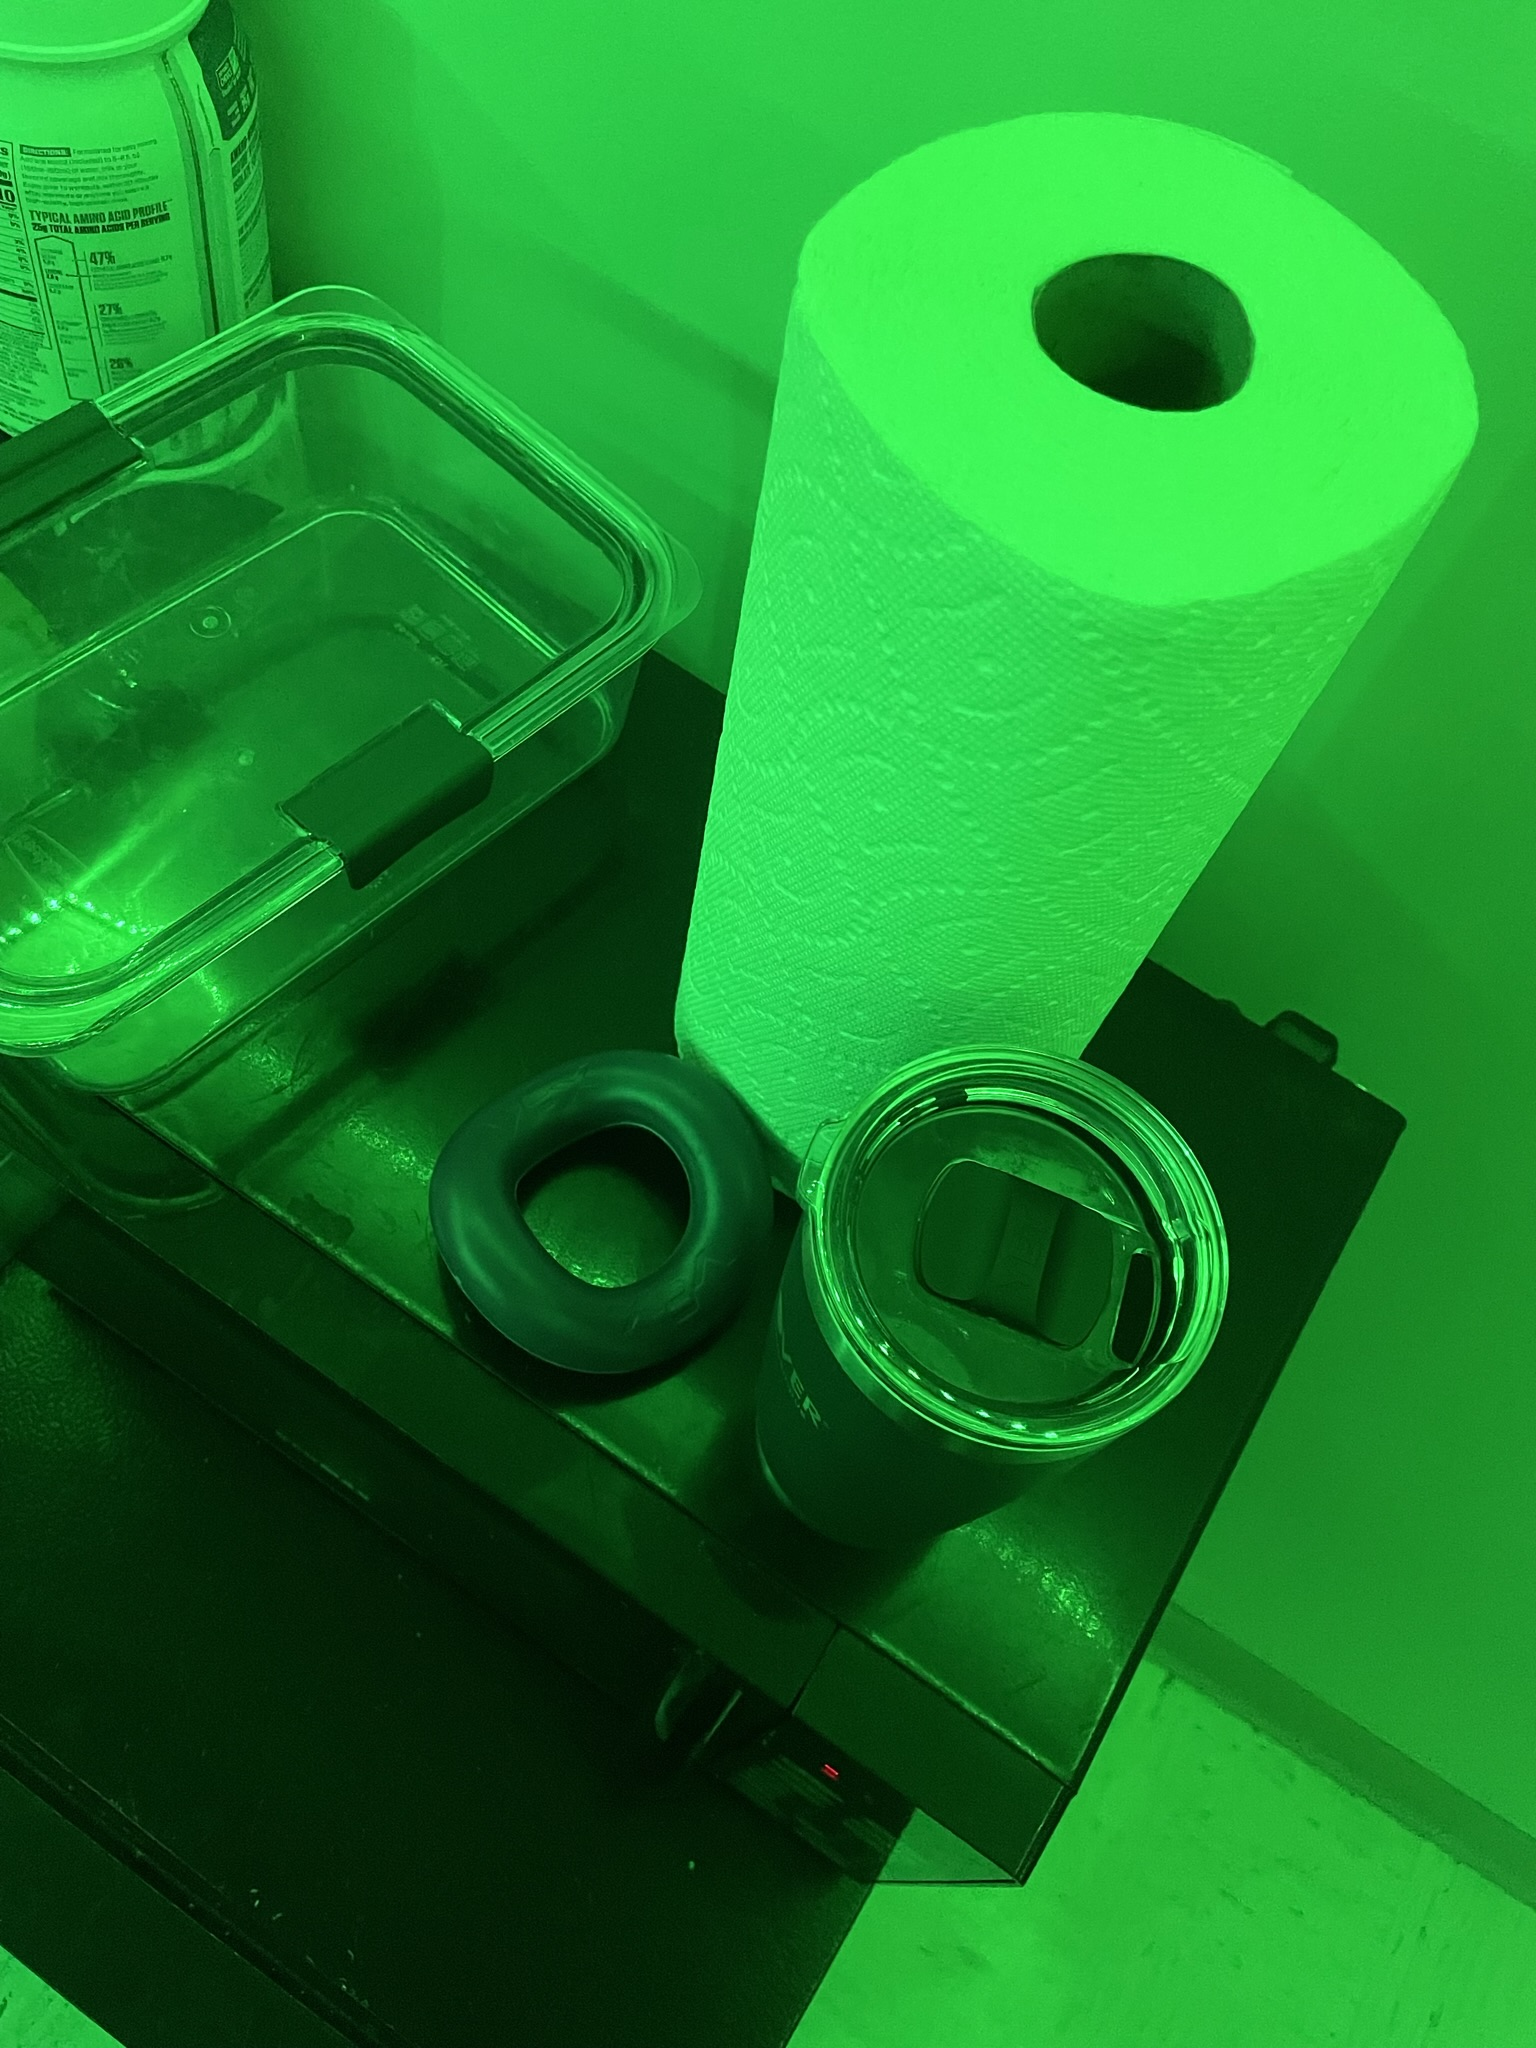ring: (424, 1050, 771, 1379)
